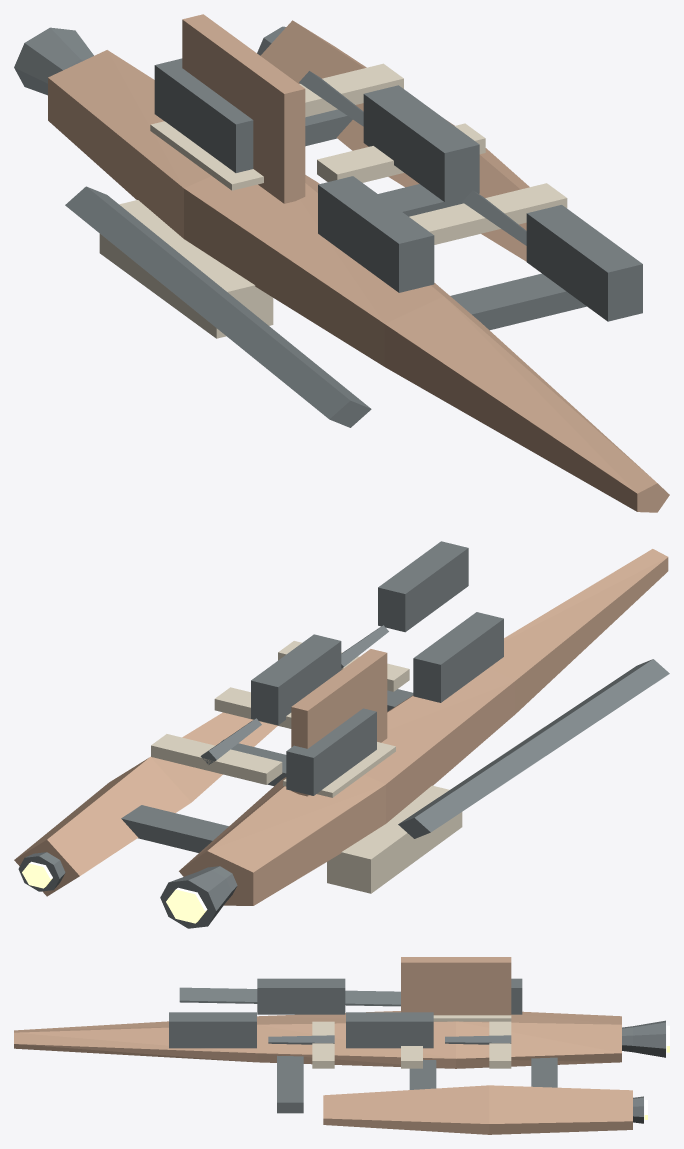
3 renders of one model, top to bottom at view 1: azimuth 30°, elevation 25°; view 2: azimuth 150°, elevation 25°; view 3: azimuth 270°, elevation 25°, orthographic. The views are drawn at different scales.
Bounding box in the file's own units: 7.42 × 3.59 × 17.91.
